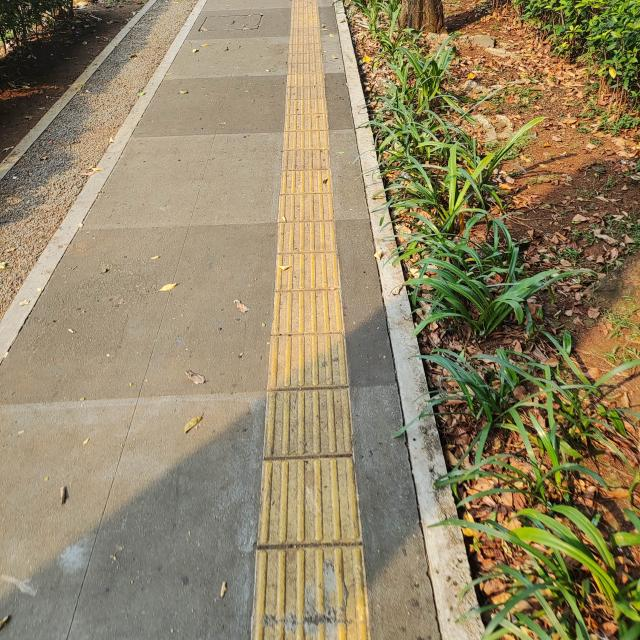lurus: (267, 7, 354, 640)
